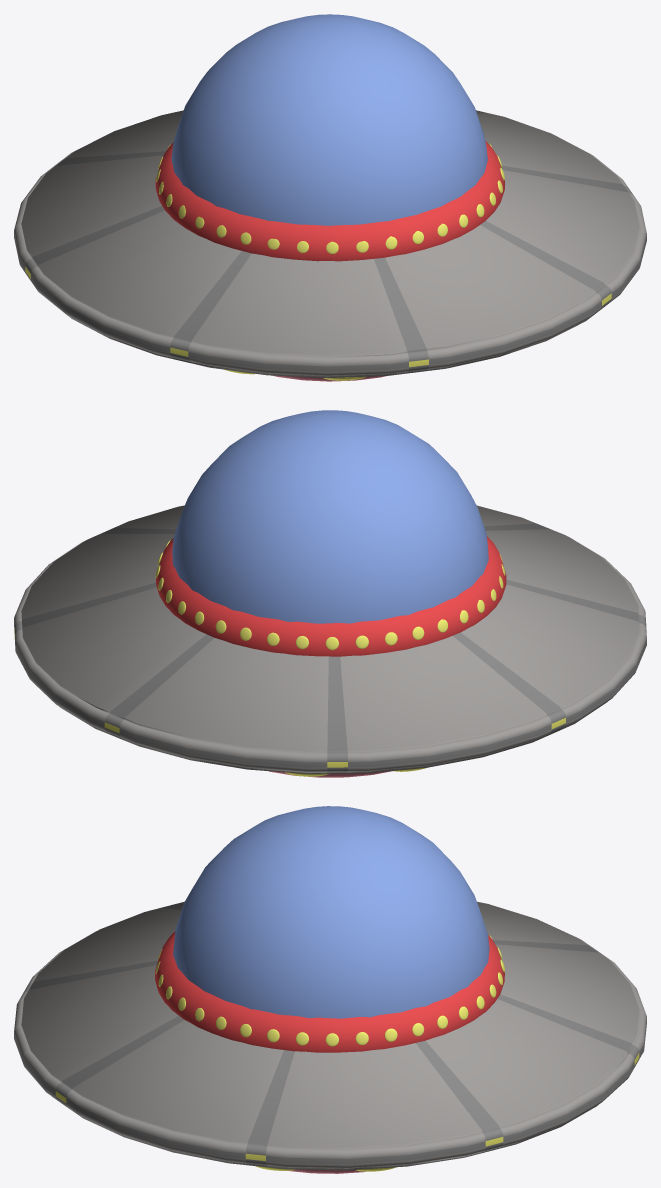
The picture shows the model from 3 angles, top to bottom: view 1: azimuth 30°, elevation 25°; view 2: azimuth 150°, elevation 25°; view 3: azimuth 270°, elevation 25°; orthographic projection.
Visible parts, largest first — view 1: Sphere.002; view 2: Sphere.002; view 3: Sphere.002.
Part boxes in pixels (bbox=[...]): Sphere.002: bbox=[14, 14, 646, 381]; Sphere.002: bbox=[14, 410, 646, 777]; Sphere.002: bbox=[14, 806, 646, 1173].
Size of the model in its own units: 602 by 312 by 602.
